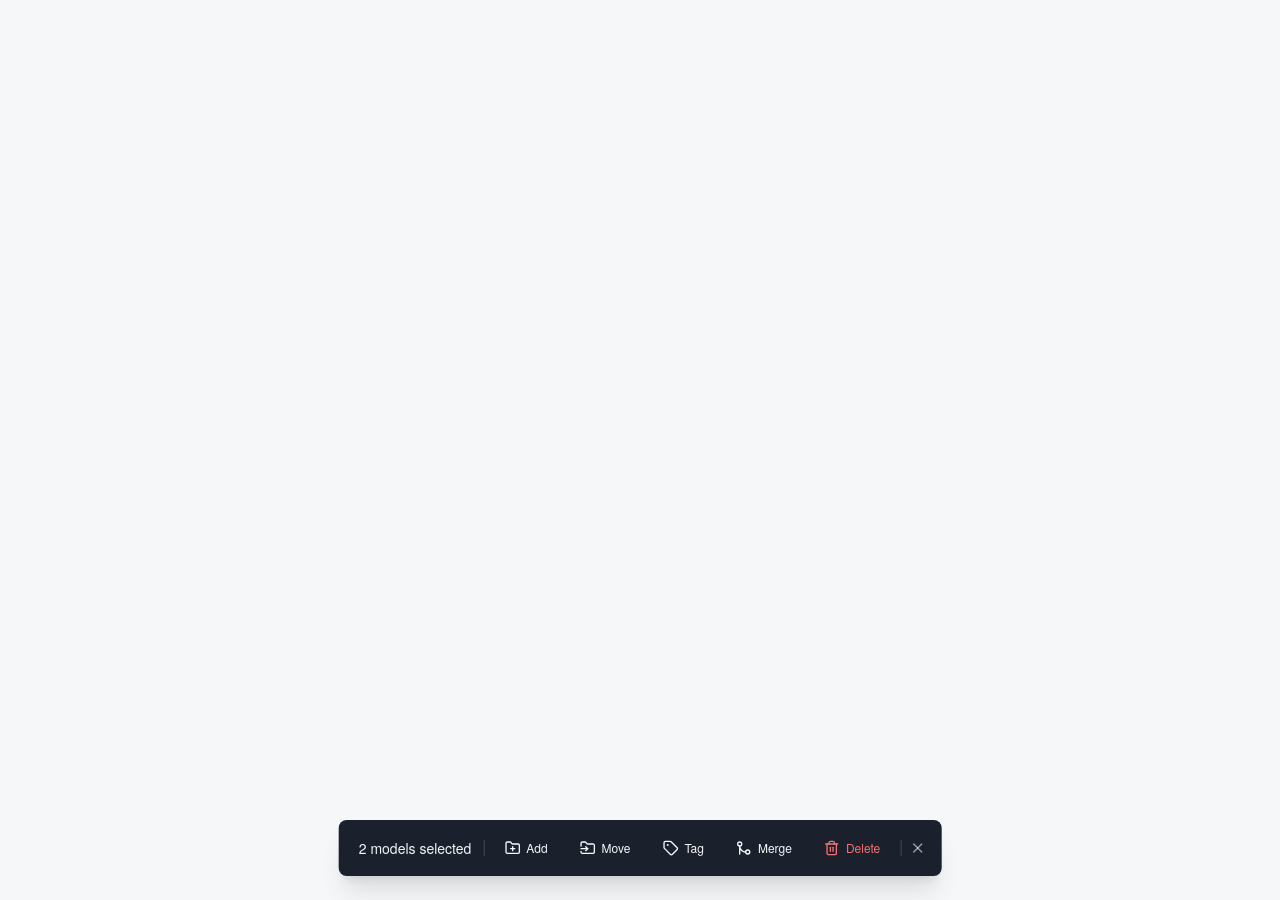
Test: BulkActions › merge › fetches selected models that are no longer in the loaded page
The width and height of the screenshot is (1280, 900).
Click the button "Merge" at (764, 848), box [724,832,804,864]
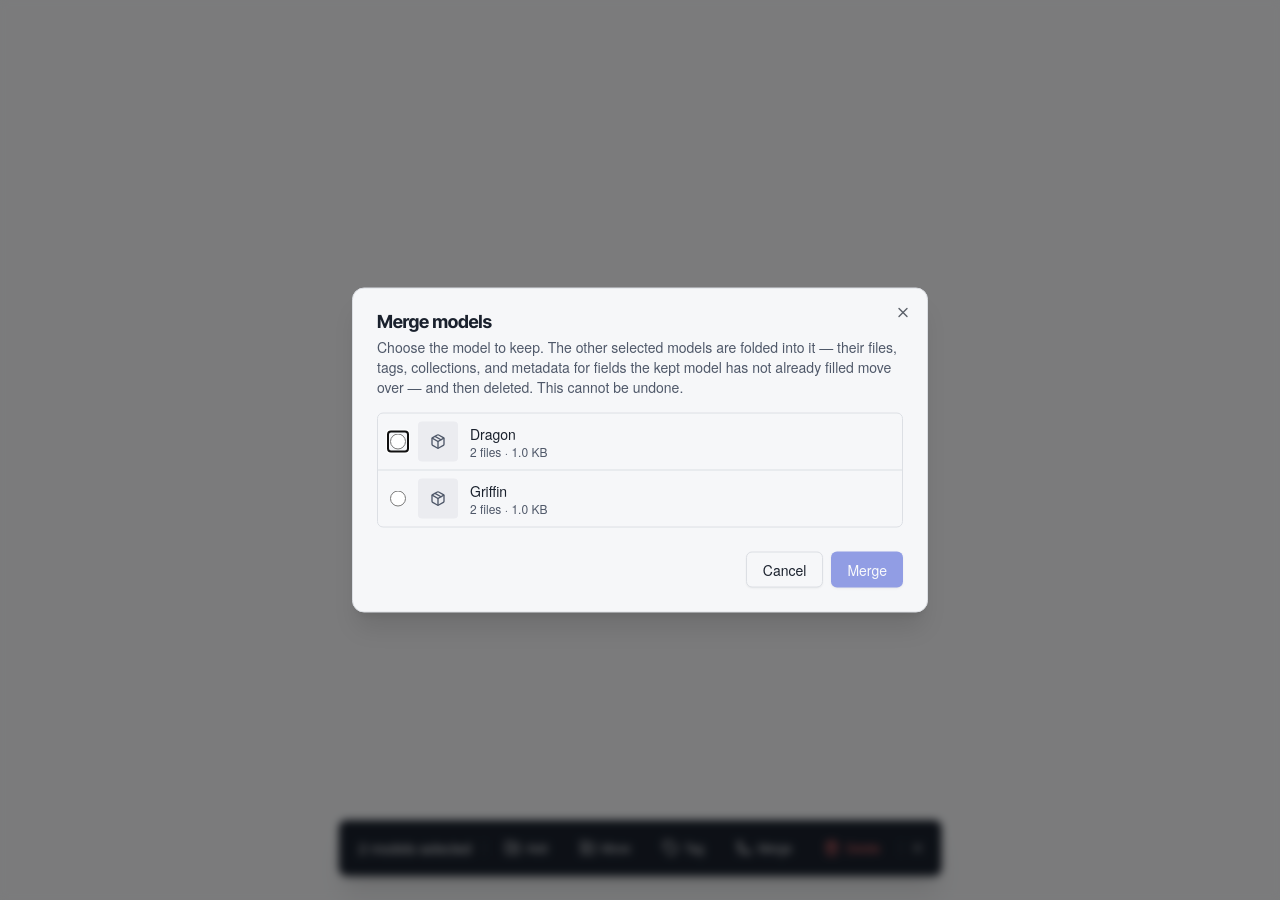
Check: the radio button labelled "Griffin 2 files · 1.0 KB" is shown, box [390,490,406,506]
